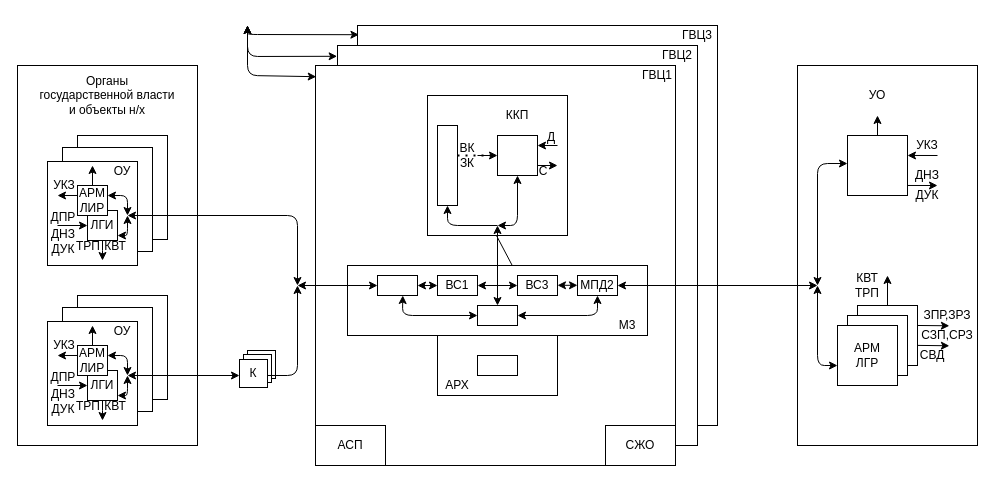
The diagram is 995 pixels wide and 483 high, and some of its shapes have lost their labels. Here are the shapes that lost their labels. From the top down, the centre of each, then its label:
At point 447,165: "Т А Б Л О".
At point 517,155: "АРМ ОДП".
At point 877,165: "АРМ ЛПР".
At point 397,285: "МПД1".
At point 497,315: "ВС2".
At point 497,365: "АХР".
